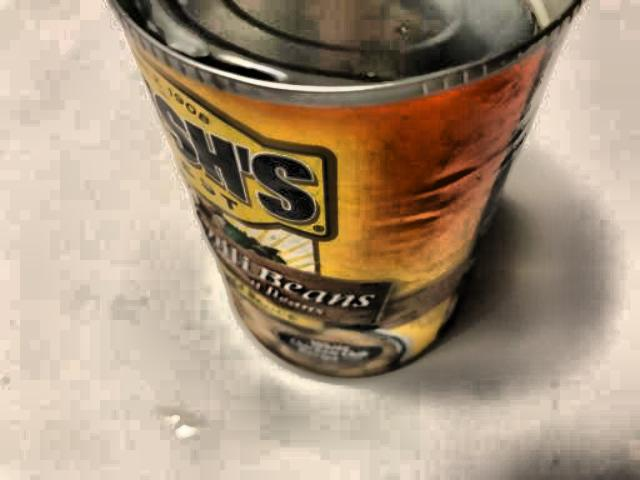Almennt: (81, 0, 589, 383)
